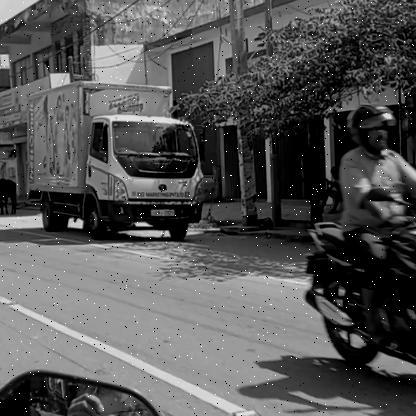motorcycle: (295, 202, 416, 416)
